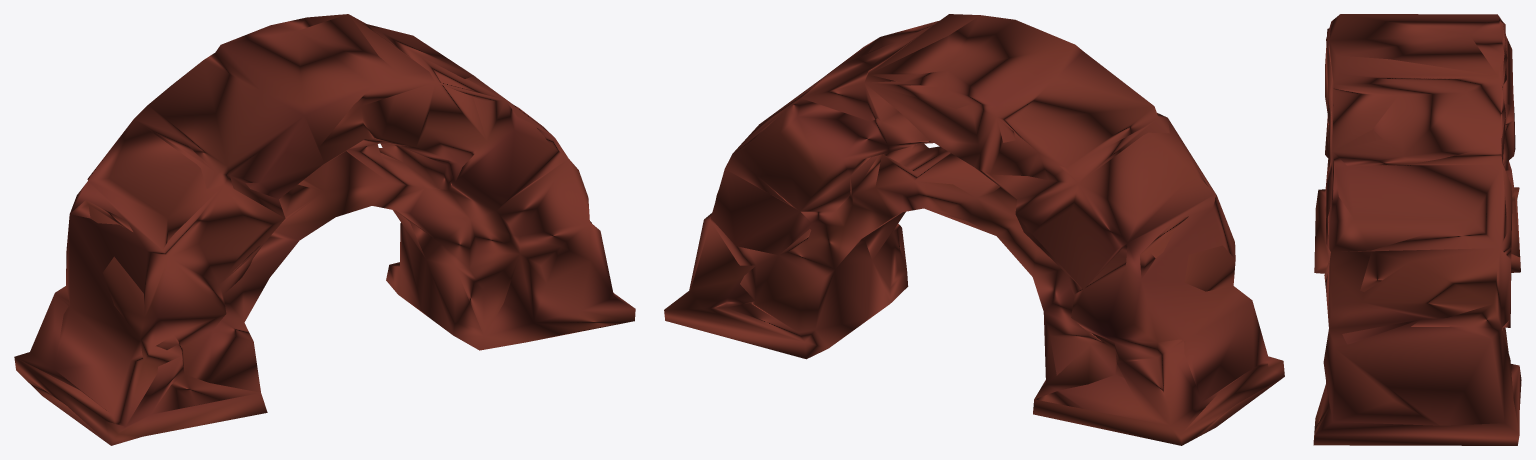
Rendered from gen3d-rock-arch-lod1.glb.
3 views of the same model, side by side, from view 1: azimuth 30°, elevation 25°; view 2: azimuth 150°, elevation 25°; view 3: azimuth 270°, elevation 25° (orthographic). The views are drawn at different scales.
Visible parts, largest first — view 1: part_0; view 2: part_0; view 3: part_0.
Boxes of the visible parts, <box> form: part_0: <box>14,14,635,445</box>; part_0: <box>664,14,1284,445</box>; part_0: <box>1313,14,1521,445</box>.
Bounding box in the file's own units: 1.82 × 0.9922 × 0.6433.
